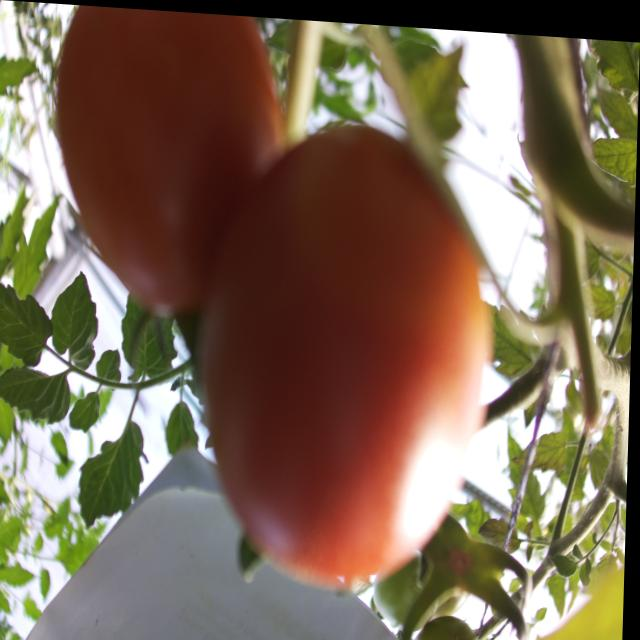kirmizi: (37, 20, 542, 588)
